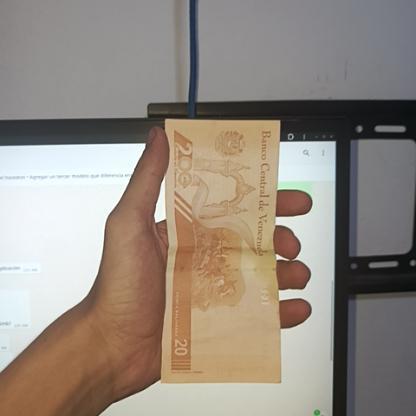vef_back: (160, 118, 283, 386)
